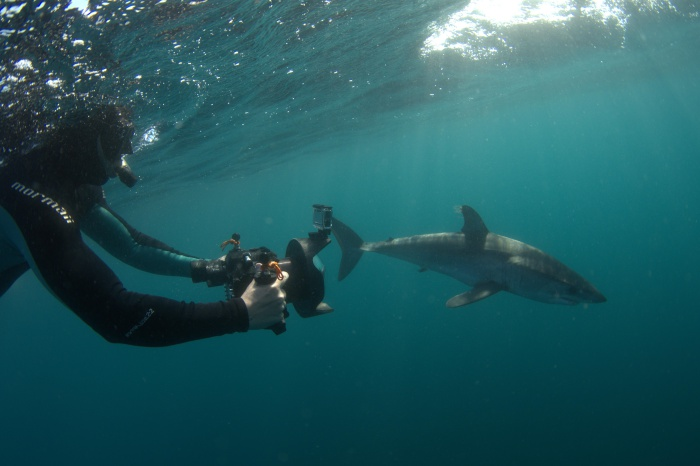Mako: (298, 190, 620, 326)
